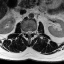CCS_normal: (28, 28, 30, 37)
LFS_normal: (32, 27, 34, 35)
LLS_normal: (30, 28, 32, 36)
RFS_normal: (24, 28, 26, 35)
RLS_normal: (26, 28, 28, 36)
